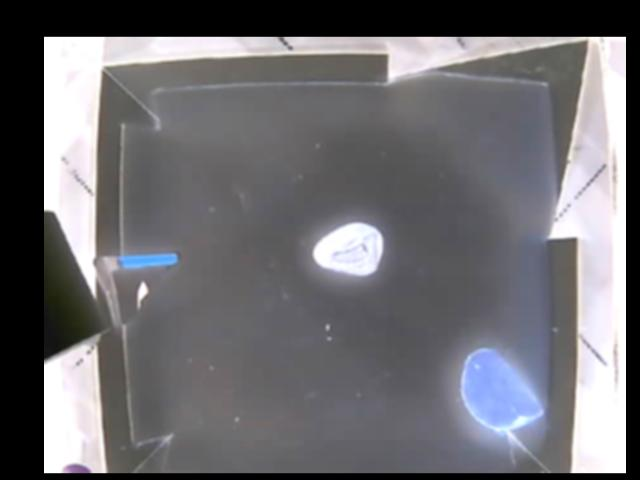China: (94, 255, 176, 327)
Pebble: (310, 222, 385, 275)
Potato: (457, 345, 545, 431)
